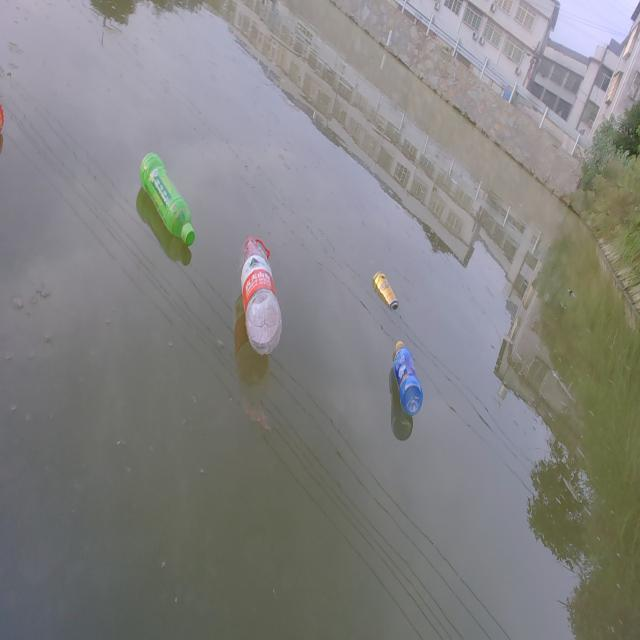garbage: (140, 151, 196, 247), (240, 235, 282, 356), (392, 339, 422, 415), (372, 270, 398, 310)
